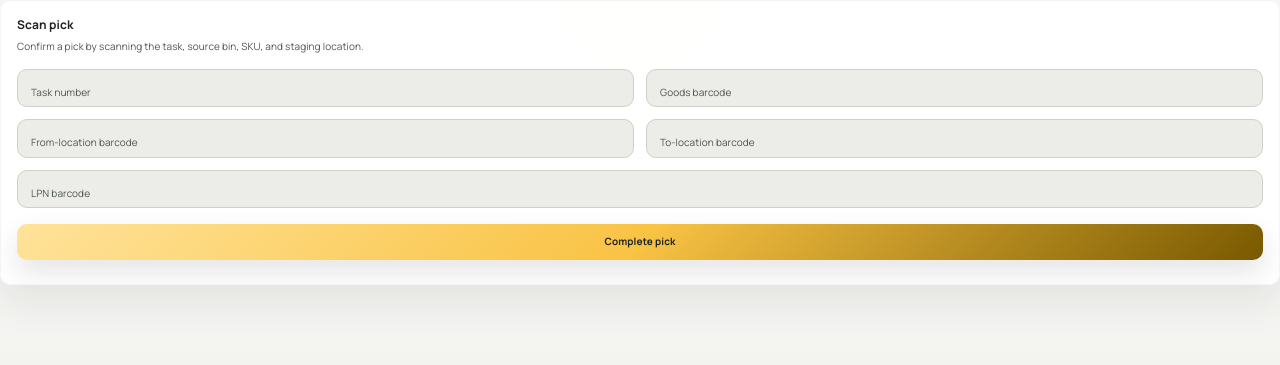
Scenario: posts scan pick payloads and shows a success message
Type "PK-4001" into the field labelled "Task number" at [326, 88], box top-left (17, 69), bottom-right (634, 108)
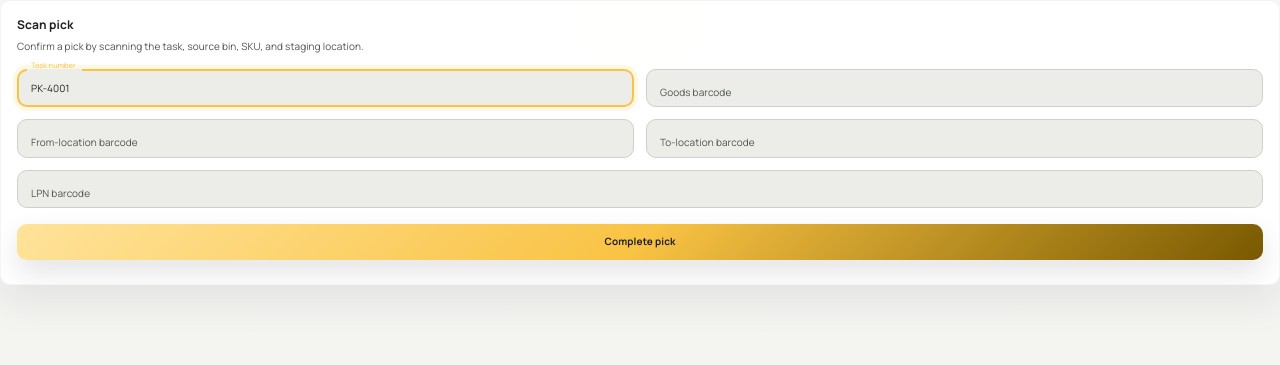
Type "SKU-4001" into the field labelled "Goods barcode" at [954, 88], box top-left (646, 69), bottom-right (1263, 108)
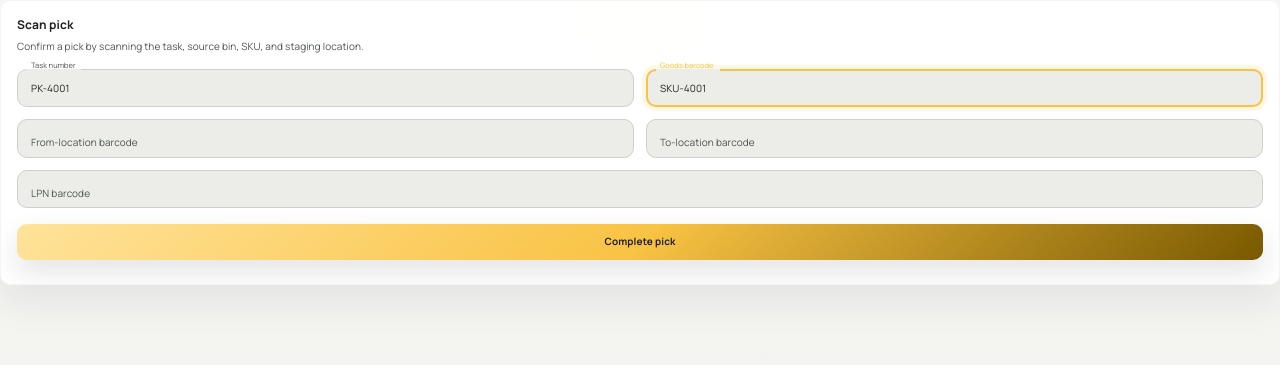
Type "A-01-01" into the field labelled "From-location barcode" at [326, 139], box top-left (17, 120), bottom-right (634, 158)
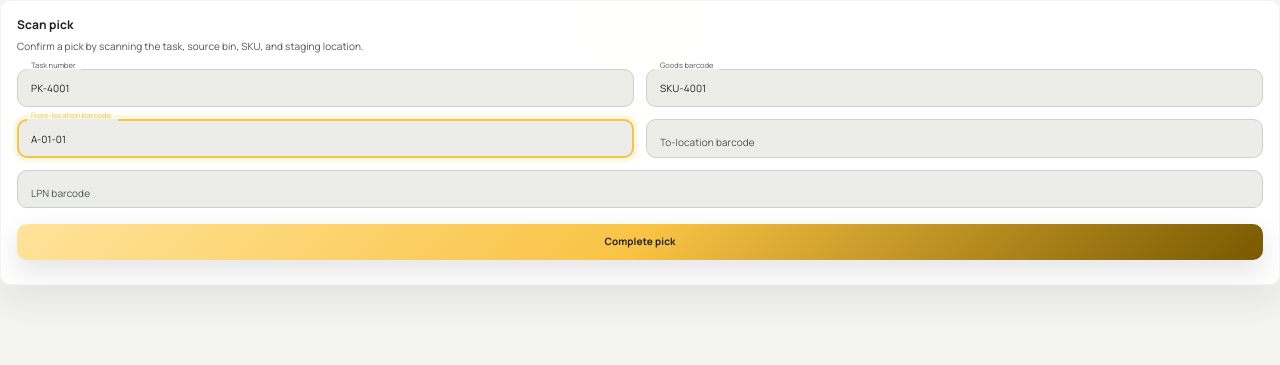
Type "STAGE-01" into the field labelled "To-location barcode" at [954, 139], box top-left (646, 120), bottom-right (1263, 158)
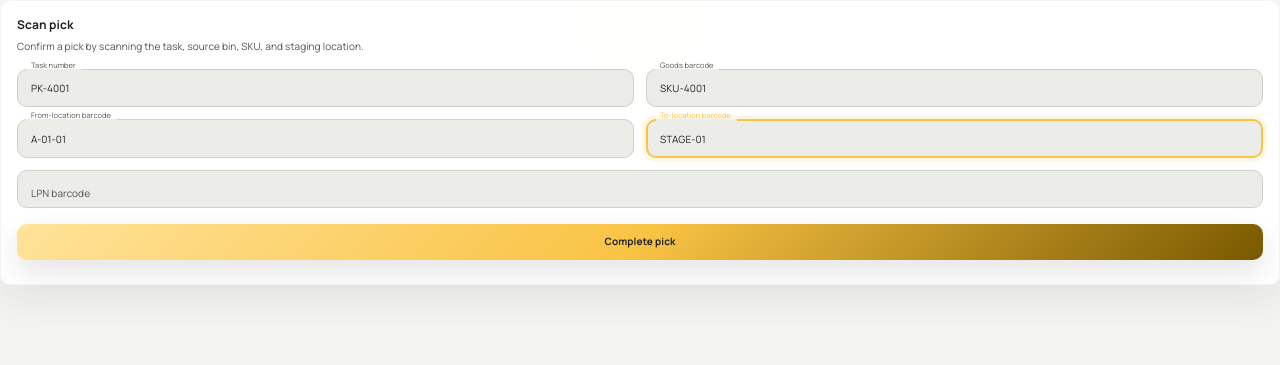
Click the button "Complete pick" at [640, 242], box top-left (17, 224), bottom-right (1263, 260)
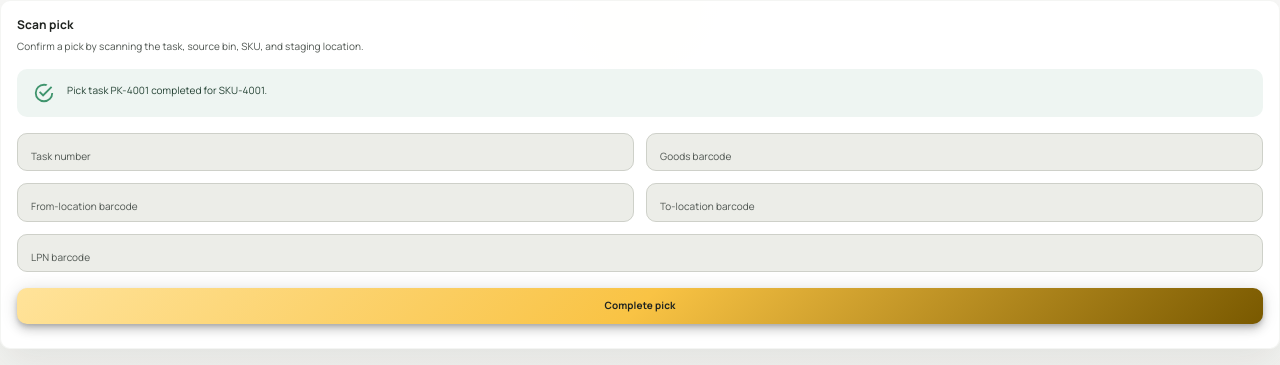
Now the text "Pick task PK-4001 completed for SKU-4001." is shown, box top-left (67, 83), bottom-right (267, 97)
